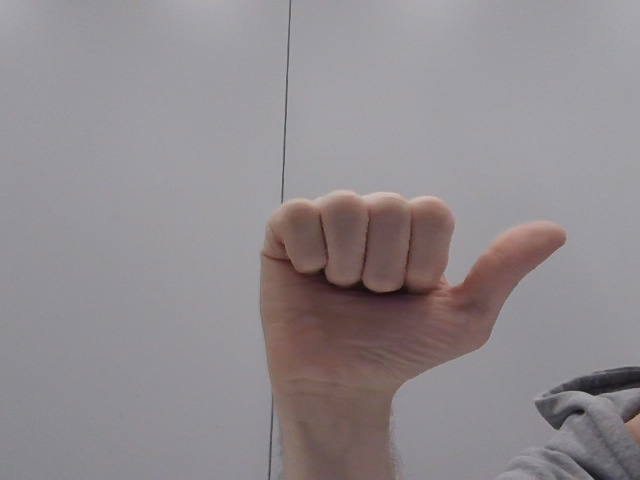left: (216, 140, 597, 406)
